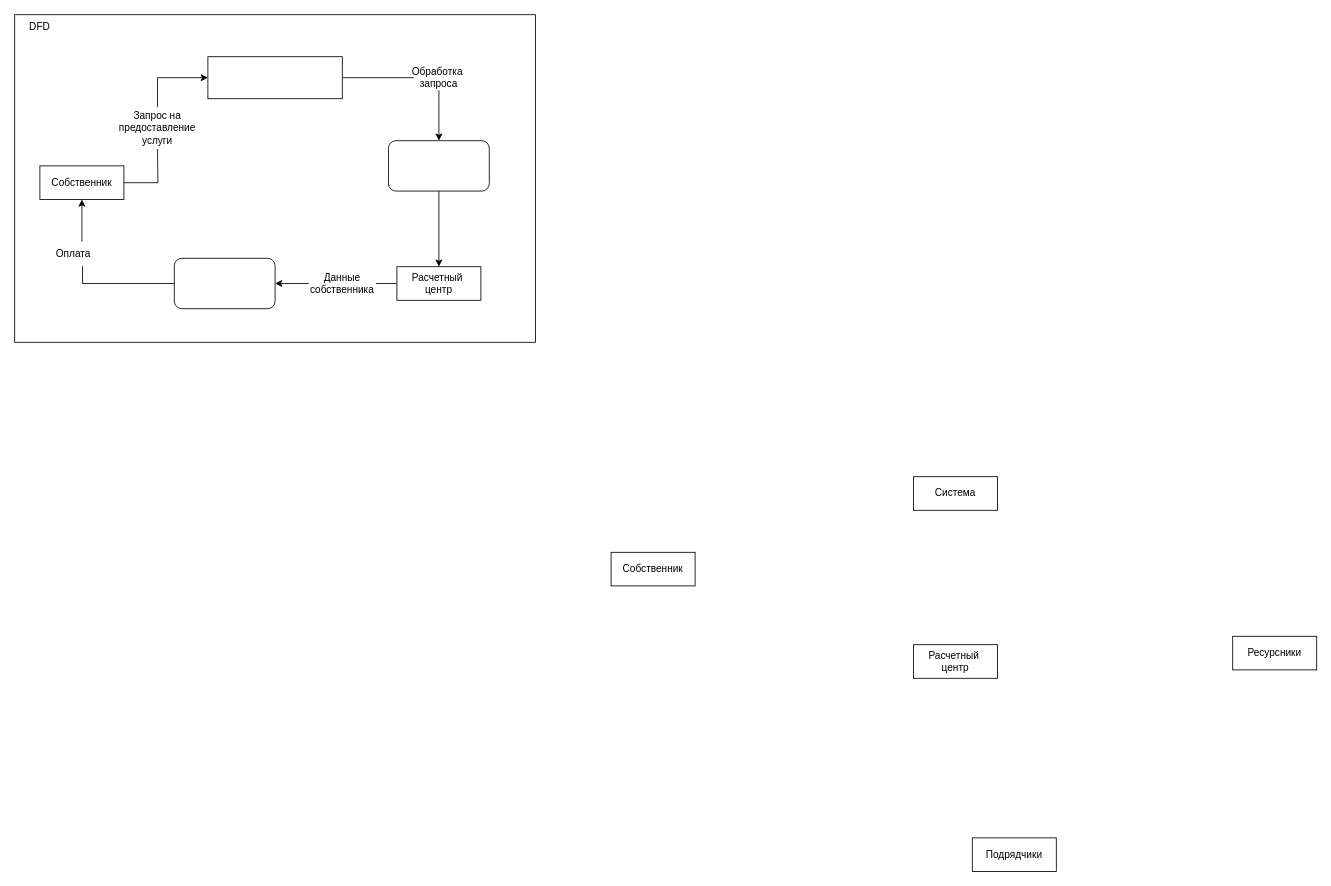
The diagram is 1331 pixels wide and 886 high, and some of its shapes have lost their labels. The shapes that lost their labels are listed below. From the top down, each one's box as (x1, y1, x2, y2) in pixels, then its label:
(207, 56, 342, 99): Система(приложение)
(388, 140, 489, 191): Запрос регистрируется в системе/передается в РЦ
(173, 257, 275, 309): Оказание услуги
